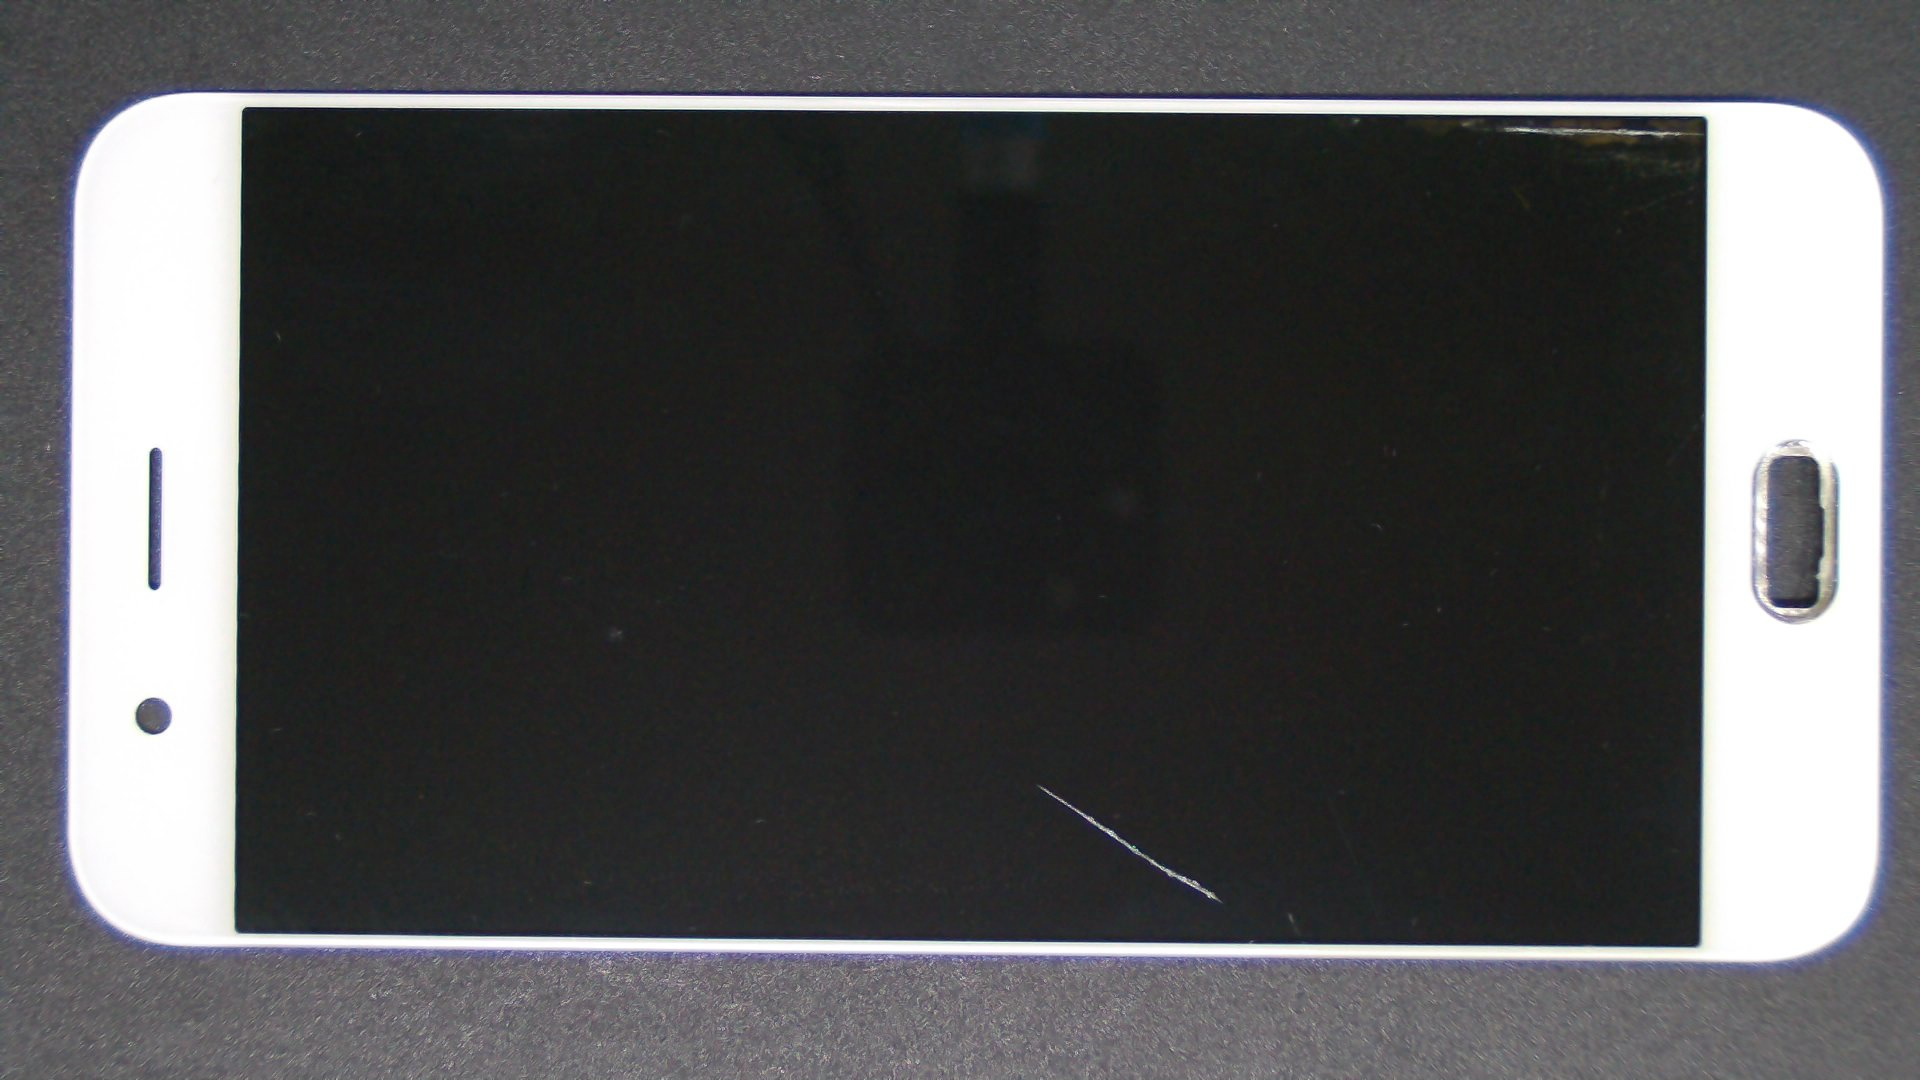oil: (517, 392, 1553, 1080), (746, 62, 1920, 189)
